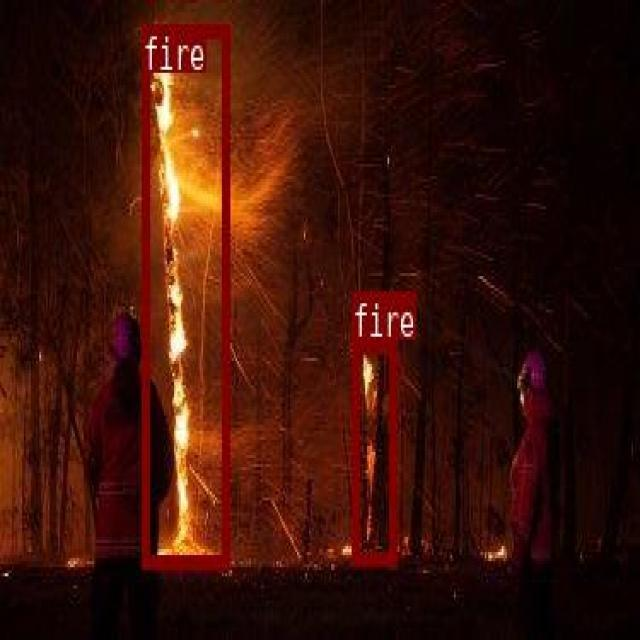fire: (141, 22, 228, 565), (352, 339, 395, 563)
